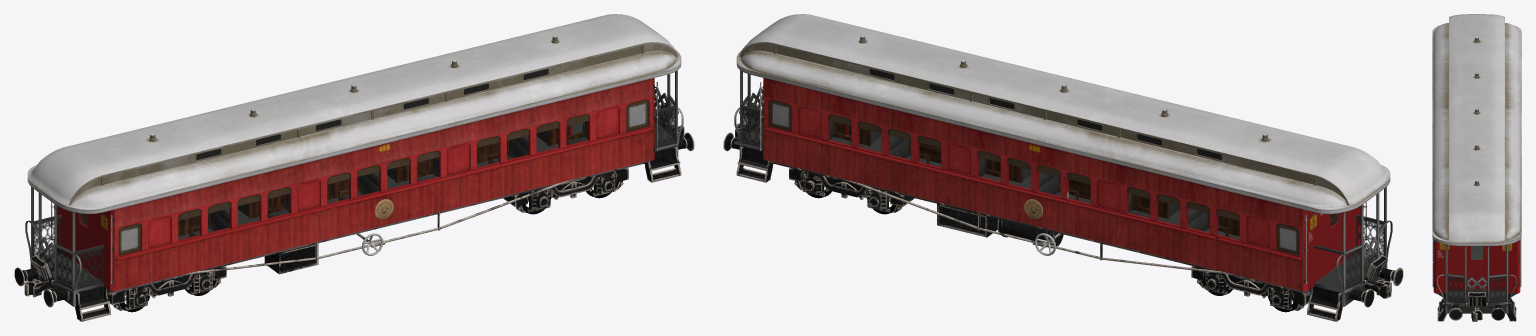
The model's file is queensland_railways_1900s_bl_heritage_carriage.glb.
The picture shows the model from 3 angles, left to right: view 1: azimuth 30°, elevation 25°; view 2: azimuth 150°, elevation 25°; view 3: azimuth 270°, elevation 25°; orthographic projection. The views are drawn at different scales.
Visible parts, largest first — view 1: exterior_7, exterior_2sided_14, bogie.001_12, bogie_6, top_windows_9; view 2: exterior_7, bogie_6, bogie.001_12, exterior_2sided_14, top_windows_9; view 3: exterior_7, exterior_2sided_14, windows_15.
Boxes of the visible parts, <box> form: exterior_7: <box>14,14,694,321</box>; exterior_2sided_14: <box>32,99,675,289</box>; bogie.001_12: <box>503,168,628,212</box>; bogie_6: <box>107,266,226,310</box>; top_windows_9: <box>196,69,548,159</box>; exterior_7: <box>723,14,1403,321</box>; bogie_6: <box>1191,266,1310,310</box>; bogie.001_12: <box>789,168,914,212</box>; exterior_2sided_14: <box>742,99,1385,288</box>; top_windows_9: <box>869,69,1221,159</box>; exterior_7: <box>1432,14,1521,321</box>; exterior_2sided_14: <box>1447,276,1506,303</box>; windows_15: <box>1471,246,1482,259</box>.
Size of the model in its own units: 20.88 by 4.86 by 3.38.
Materials: 4 (3 with a texture image).
